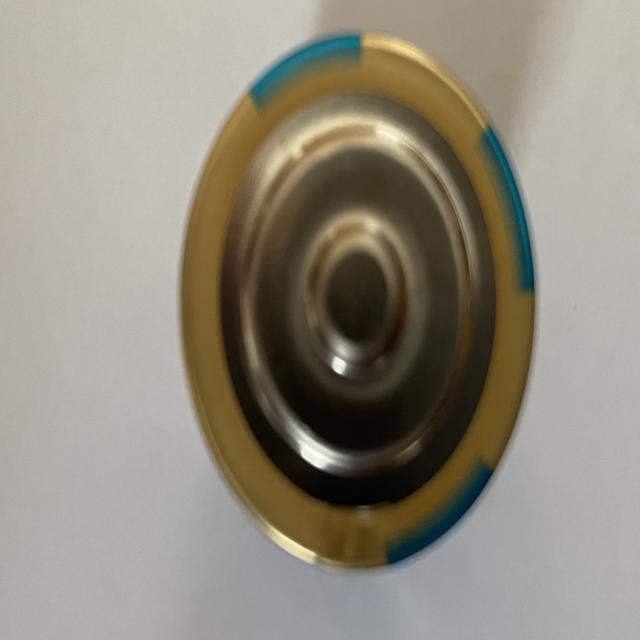hazardous waste: (174, 23, 544, 587)
